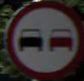No overtake: (10, 8, 77, 68)
